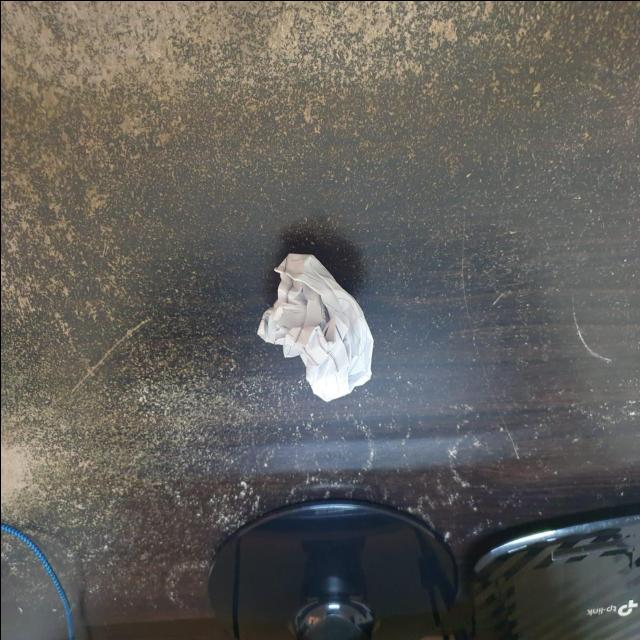kertas: (248, 248, 374, 402)
